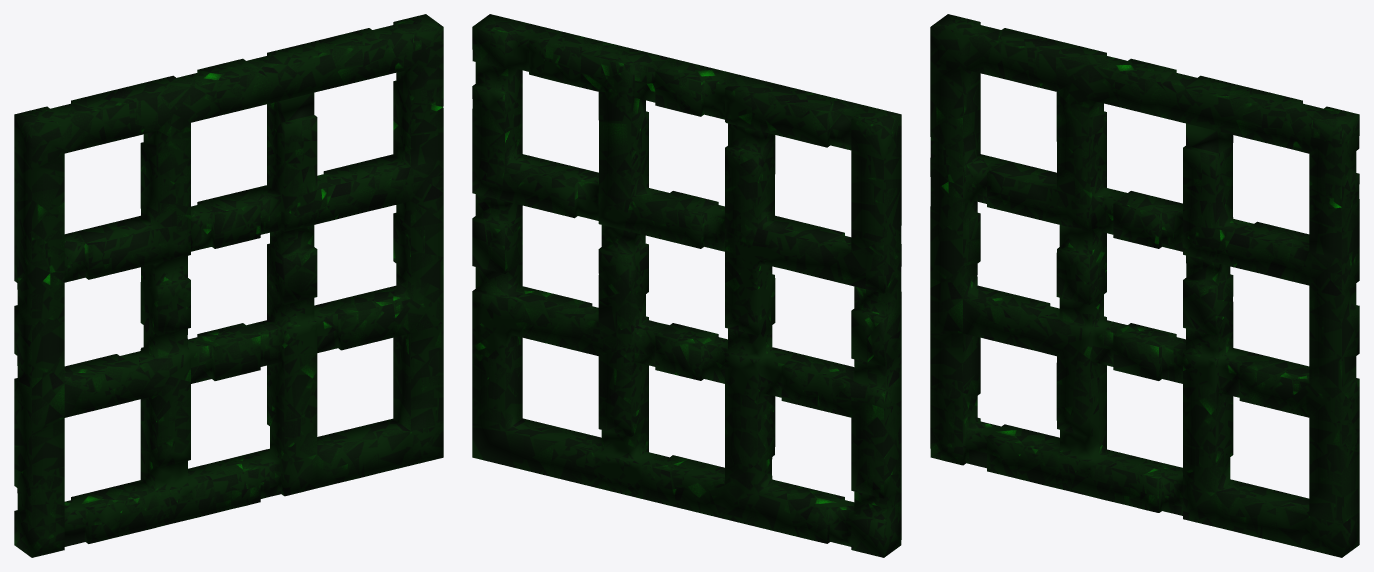
File: dual.dt.tcp.obj
The picture shows the model from 3 angles, left to right: view 1: azimuth 30°, elevation 25°; view 2: azimuth 150°, elevation 25°; view 3: azimuth 330°, elevation 25°; orthographic projection.
Size of the model in its own units: 61.6 by 61.6 by 4.57.
